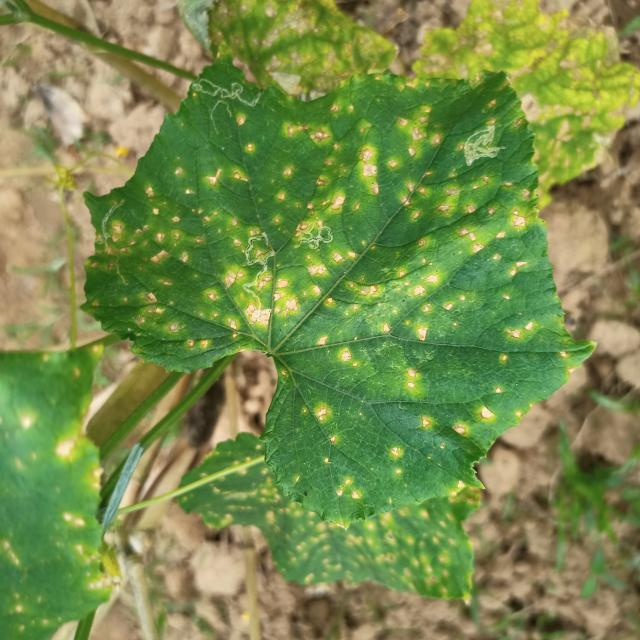disease_cucumber: (91, 94, 555, 352), (300, 399, 339, 446), (312, 334, 361, 370), (415, 414, 471, 438), (478, 384, 505, 422), (386, 439, 406, 478), (400, 361, 423, 392), (336, 476, 361, 503)
